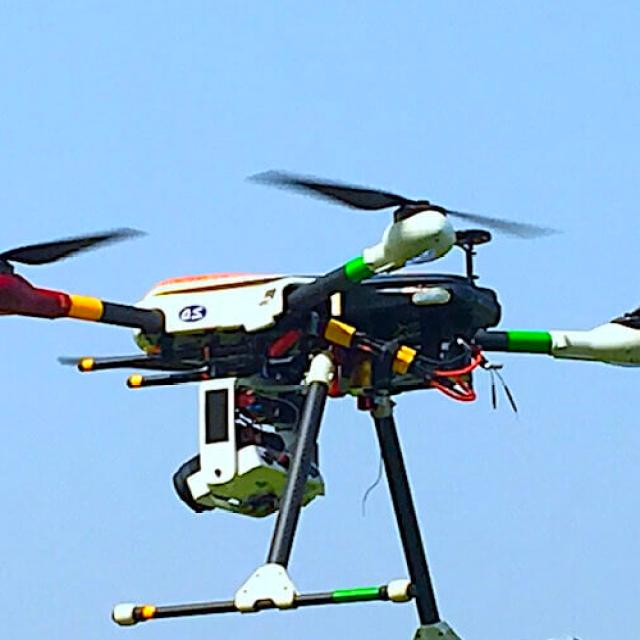drone: (0, 189, 640, 457)
